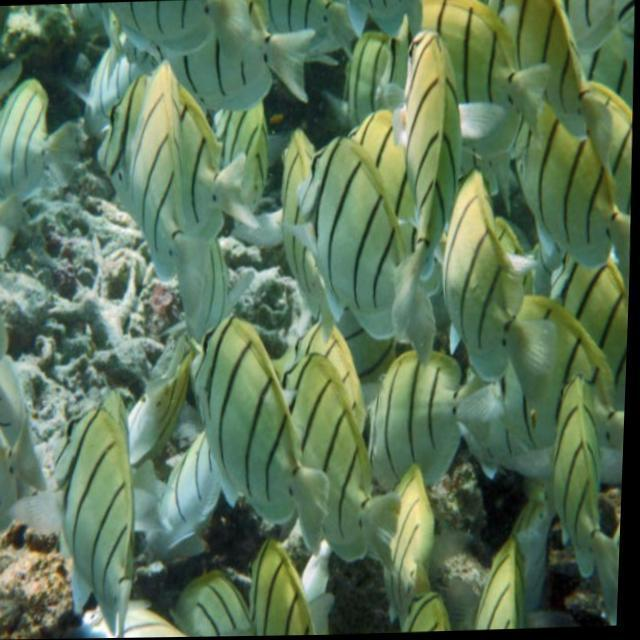Dead Coral: (53, 212, 193, 398)
